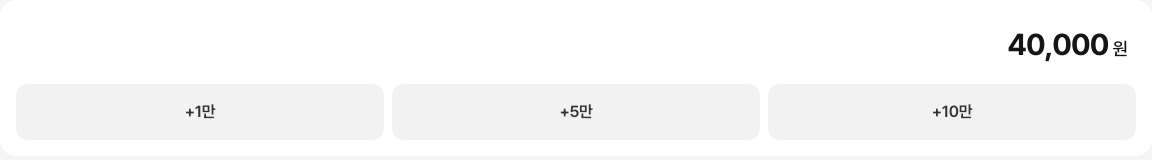
Test case: AmountDisplay › SPEC-001 AC-17 [+1만] [+5만] [+10만] 은 지금 금액에 더한다
Click the button named "1만 원 더하기" at (200, 112), box x1=16 y1=84 x2=384 y2=140
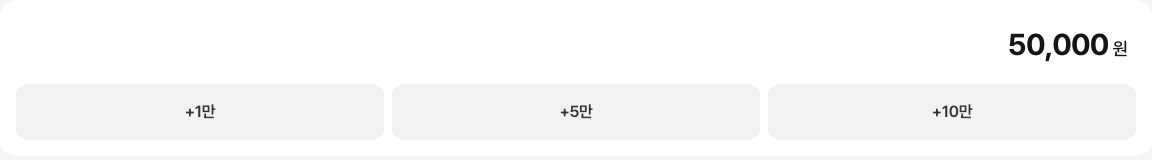
Click the button named "5만 원 더하기" at (576, 112), box x1=392 y1=84 x2=760 y2=140
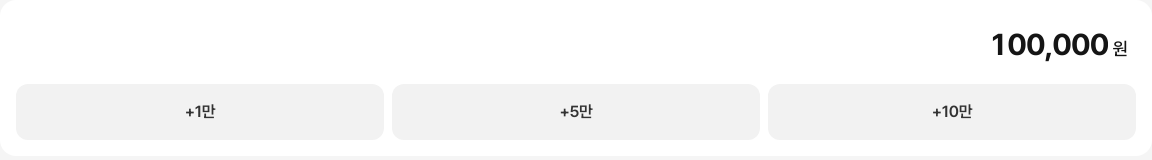
Click the button named "10만 원 더하기" at (952, 112), box x1=768 y1=84 x2=1136 y2=140
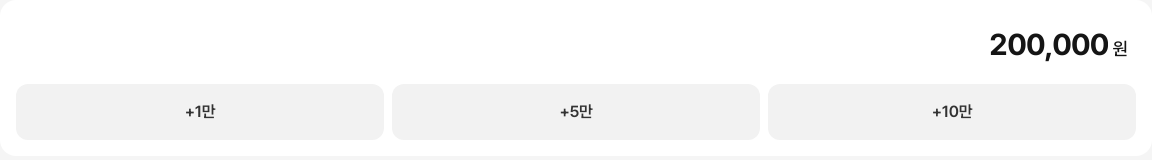
Expected: the field named "얼마인가요?" holds "200,000", x1=24 y1=16 x2=1108 y2=72
